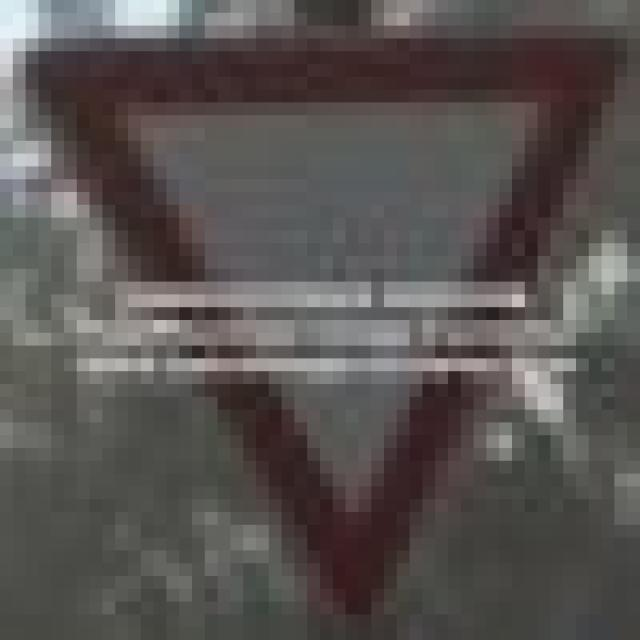gap_in_median: (13, 38, 627, 614)
